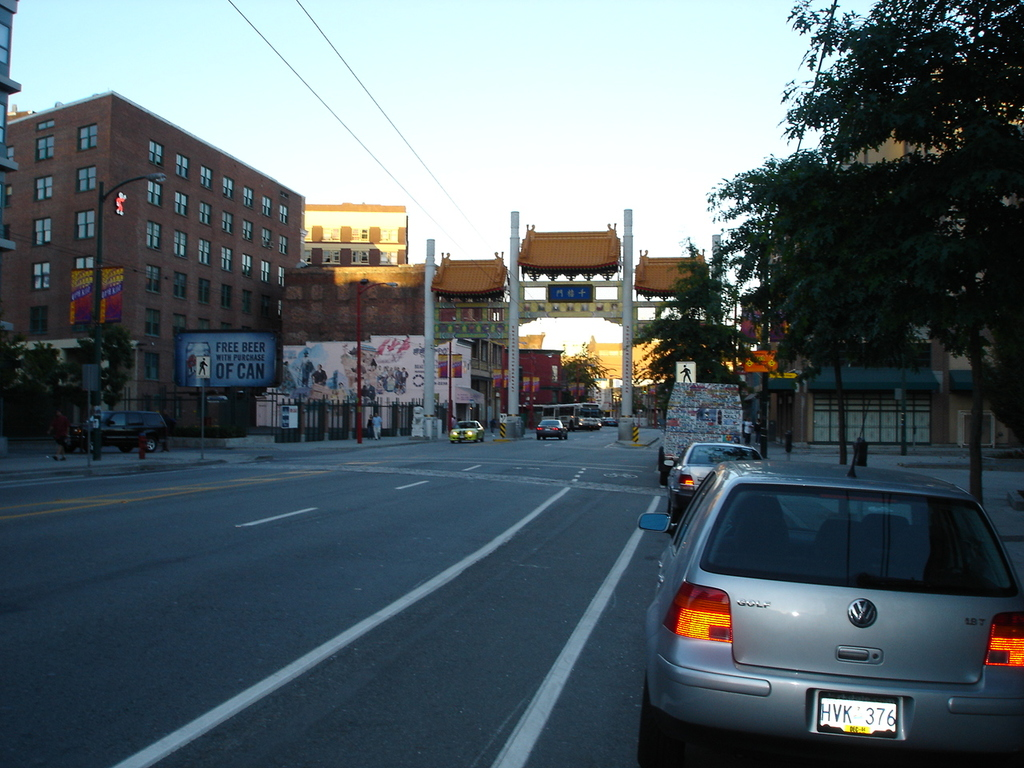Car: (638, 399, 1023, 767), (663, 436, 760, 522), (63, 412, 167, 455), (450, 420, 486, 442), (534, 418, 564, 442)
